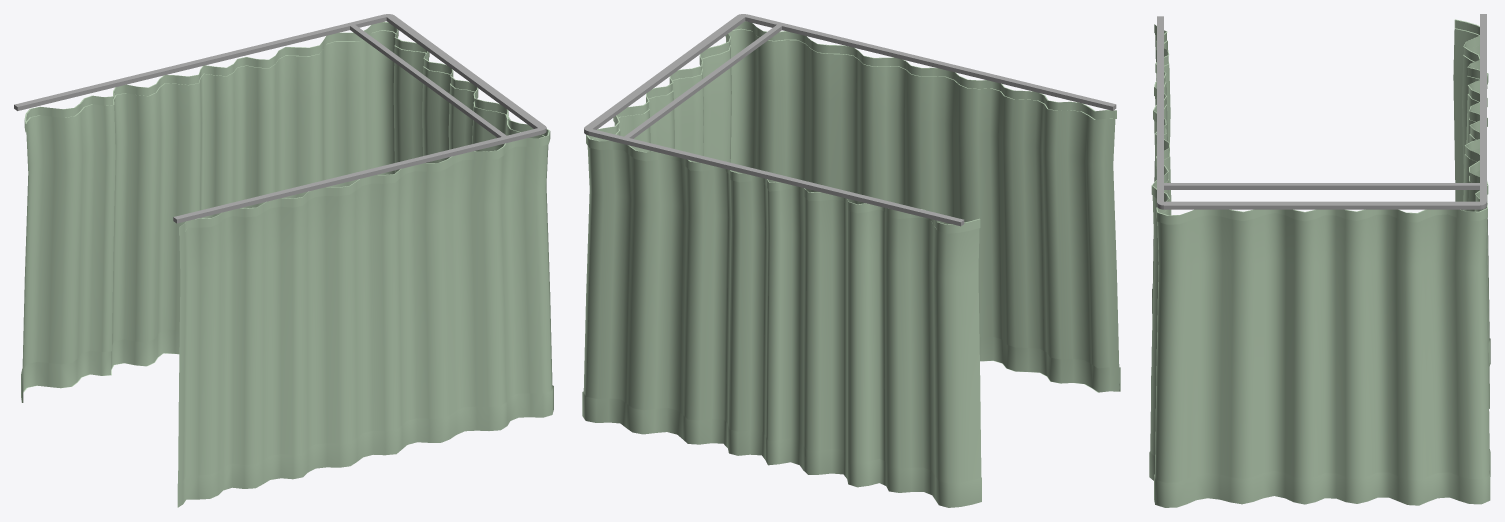
The model's file is curtain.fbx.
3 views of the same model, side by side, from view 1: azimuth 30°, elevation 25°; view 2: azimuth 150°, elevation 25°; view 3: azimuth 270°, elevation 25° (orthographic). The views are drawn at different scales.
Parts seen in each view (by area): view 1: loftedSurface2; view 2: loftedSurface2; view 3: loftedSurface2.
Boxes of the visible parts, bbox=[...] form: loftedSurface2: bbox=[14, 14, 553, 507]; loftedSurface2: bbox=[582, 14, 1120, 507]; loftedSurface2: bbox=[1149, 14, 1490, 507].
Bounding box in the file's own units: 267 × 187 × 194.
